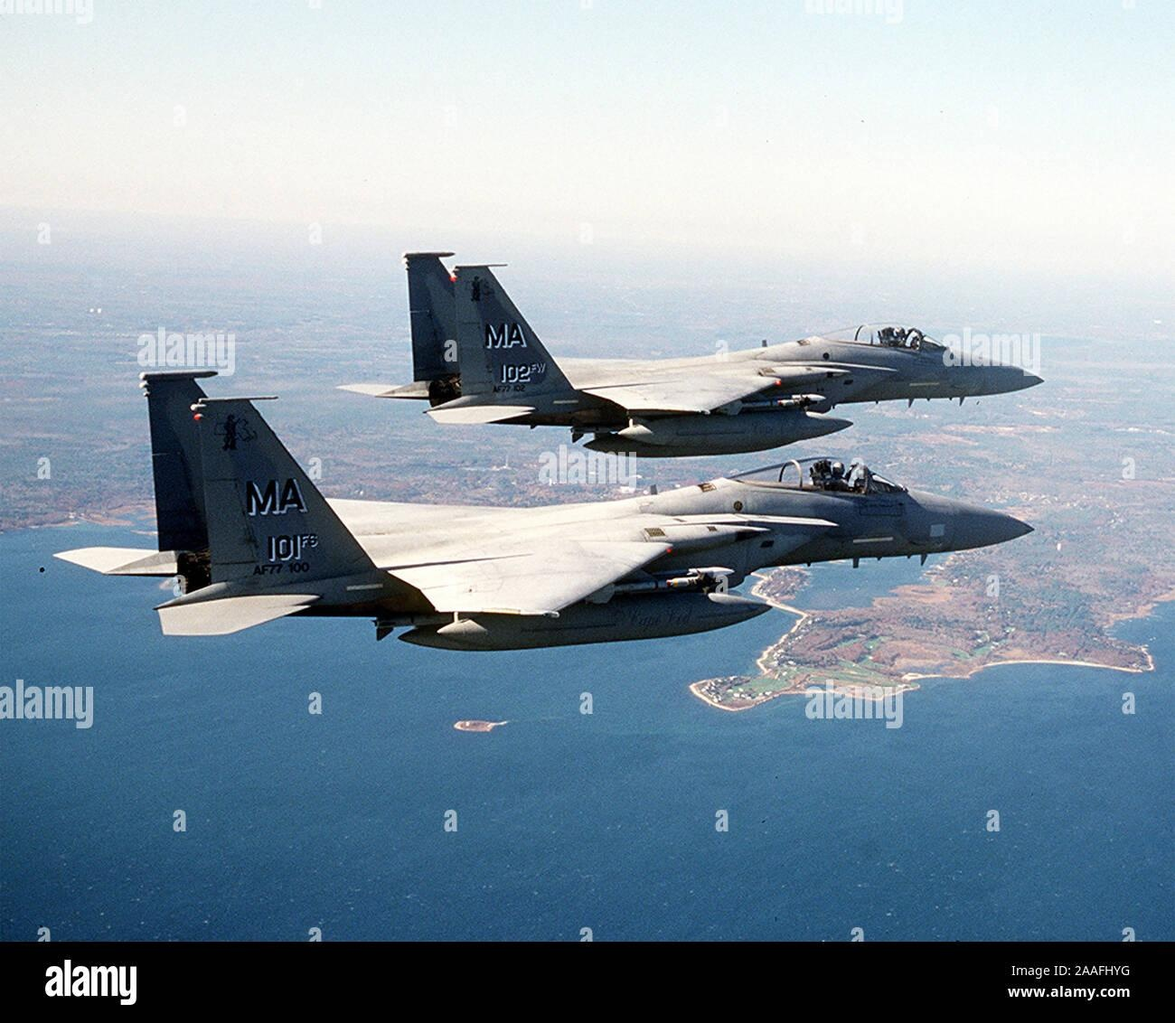aircraft: (136, 396, 1038, 652), (342, 254, 1043, 447)
